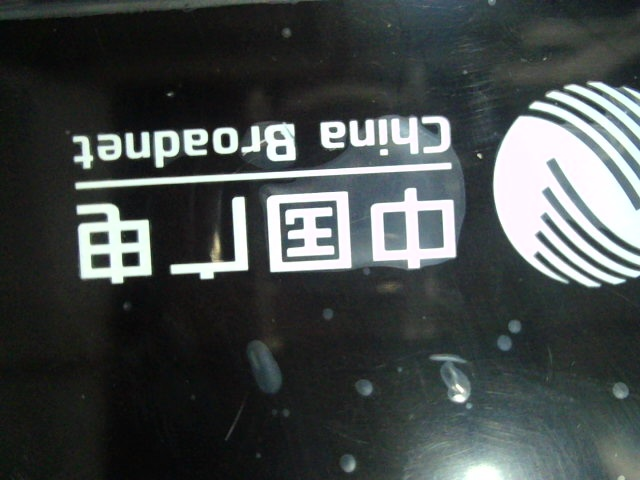AW_ChinaBroadNet: (51, 76, 639, 311)
